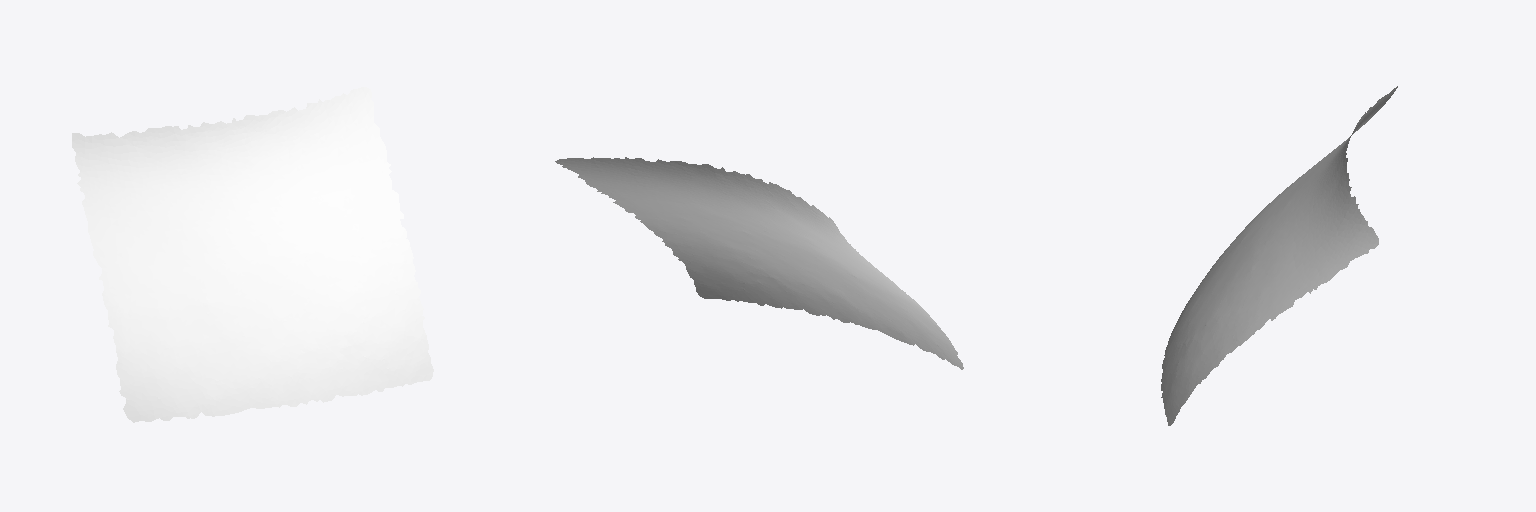
File: SeaVase_topPatch.obj
3 views of the same model, side by side, from view 1: azimuth 30°, elevation 25°; view 2: azimuth 150°, elevation 25°; view 3: azimuth 270°, elevation 25° (orthographic).
Parts seen in each view (by area): view 1: SeaVase_100timesSmooth.part; view 2: SeaVase_100timesSmooth.part; view 3: SeaVase_100timesSmooth.part.
Part boxes in pixels (x1,y1,x2,y2): SeaVase_100timesSmooth.part: (72,87,433,422); SeaVase_100timesSmooth.part: (555,157,963,369); SeaVase_100timesSmooth.part: (1161,86,1397,425).
Bounding box in the file's own units: 0.6448 × 0.4245 × 0.4063.